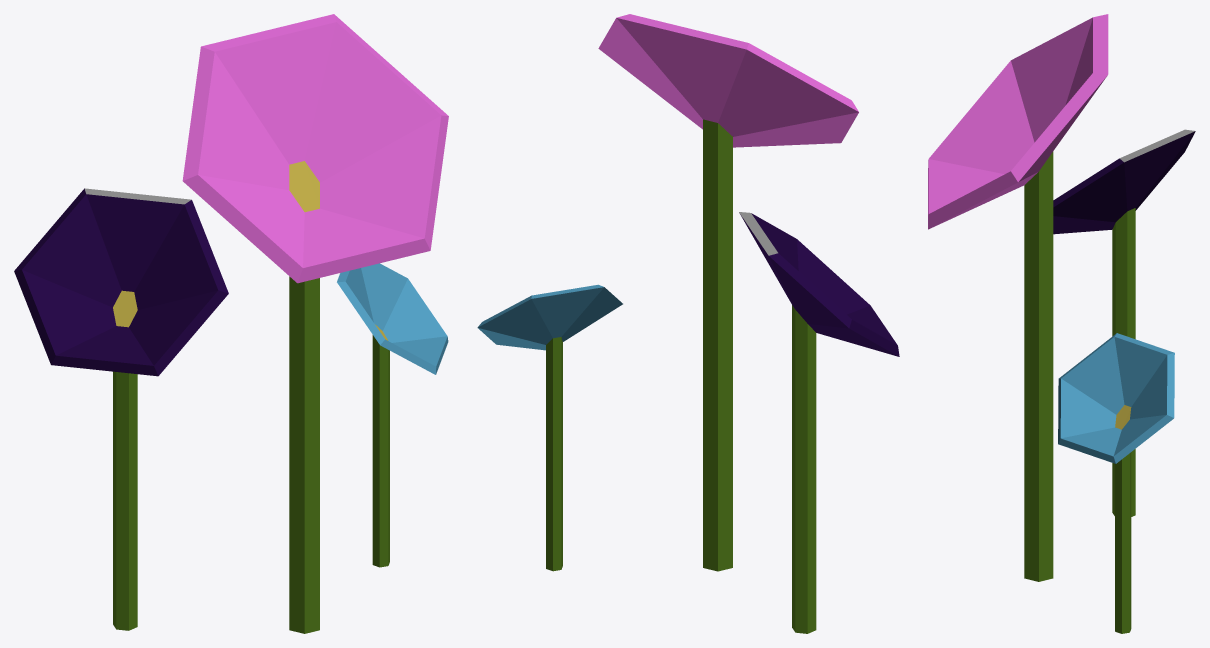
The model's file is Flowers.FBX.
The picture shows the model from 3 angles, left to right: view 1: azimuth 30°, elevation 25°; view 2: azimuth 150°, elevation 25°; view 3: azimuth 270°, elevation 25°; orthographic projection. The views are drawn at different scales.
Parts seen in each view (by area): view 1: flowerBig, flowerMedium, flowerSmall; view 2: flowerBig, flowerMedium, flowerSmall; view 3: flowerBig, flowerSmall, flowerMedium.
Boxes of the visible parts, box(x1,y1,x2,y2) form: flowerBig: box(182, 14, 448, 633); flowerMedium: box(14, 188, 228, 630); flowerSmall: box(337, 263, 448, 567); flowerBig: box(598, 14, 858, 571); flowerMedium: box(739, 212, 899, 633); flowerSmall: box(477, 284, 622, 571); flowerBig: box(928, 14, 1108, 581); flowerSmall: box(1058, 333, 1174, 633); flowerMedium: box(1053, 129, 1195, 516).
Size of the model in its own units: 64.98 by 87.31 by 39.92.
